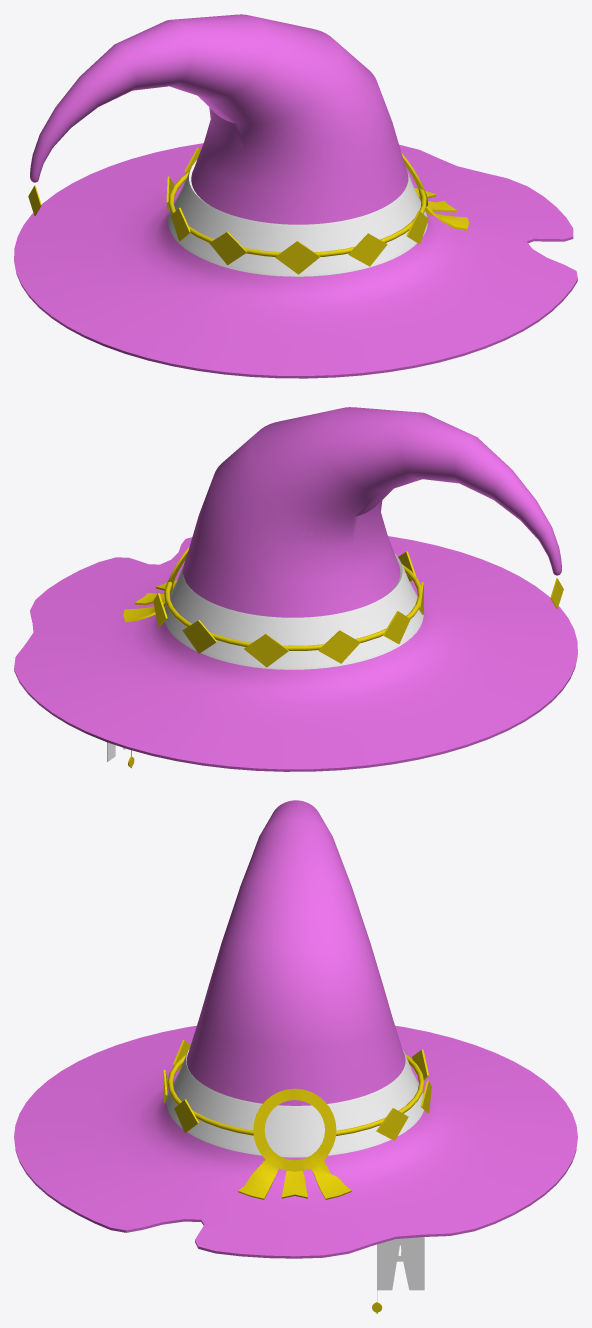
The model's file is NEW SHY HAT.fbx.
The picture shows the model from 3 angles, top to bottom: view 1: azimuth 30°, elevation 25°; view 2: azimuth 150°, elevation 25°; view 3: azimuth 270°, elevation 25°; orthographic projection.
Parts seen in each view (by area): view 1: SHY HAT; view 2: SHY HAT; view 3: SHY HAT.
Boxes of the visible parts, left/top/right/bottom form: SHY HAT: left=14, top=14, right=577, bottom=378; SHY HAT: left=14, top=407, right=577, bottom=771; SHY HAT: left=14, top=800, right=577, bottom=1313.
Bounding box in the file's own units: 207 × 147 × 199.
